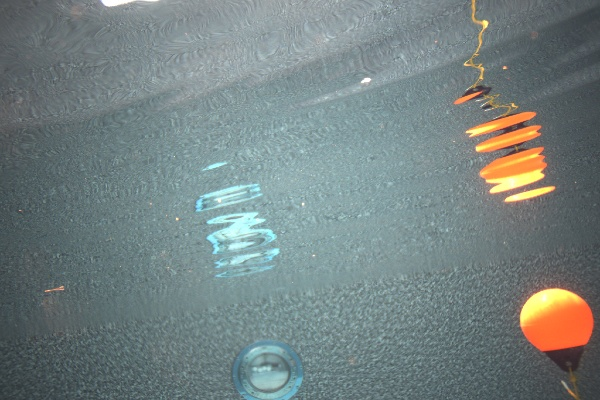buoy: (520, 289, 594, 373)
